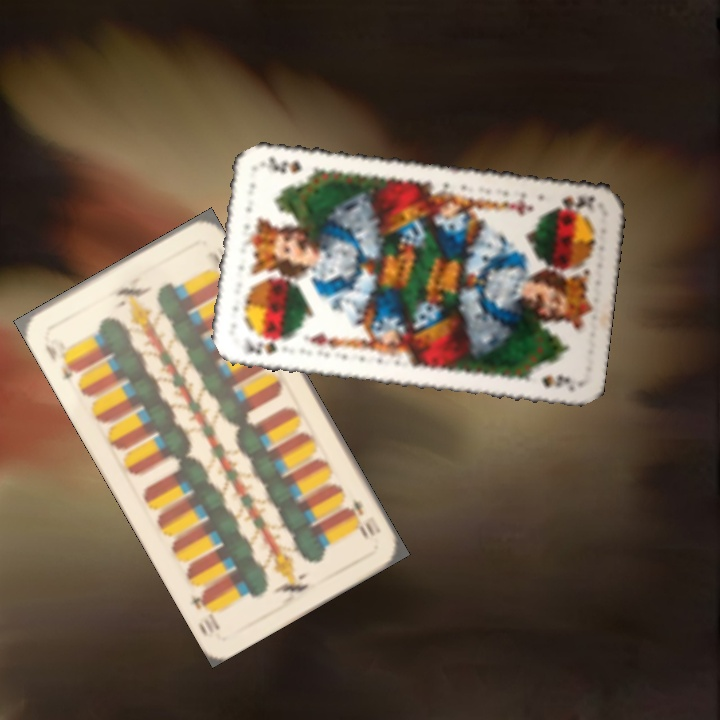E10: (40, 340, 82, 383), (343, 494, 379, 541)
SK: (243, 333, 291, 357), (549, 191, 598, 213)
